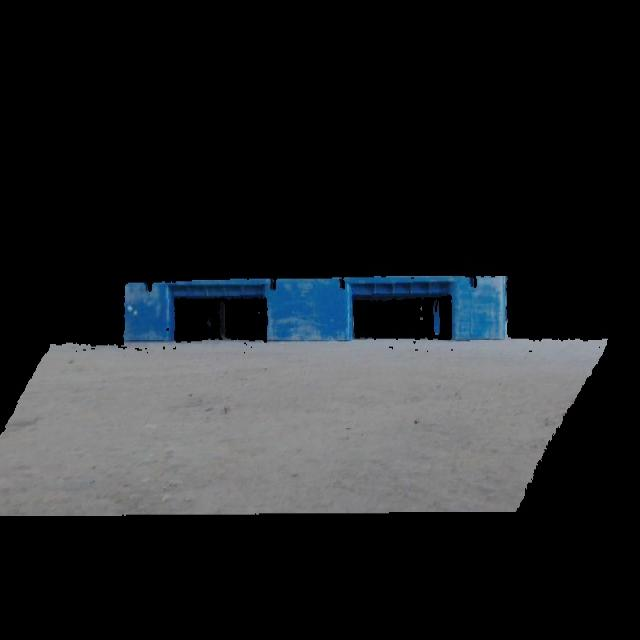block: (262, 275, 356, 342), (452, 273, 510, 342), (123, 279, 175, 346)
front: (120, 271, 512, 346)
